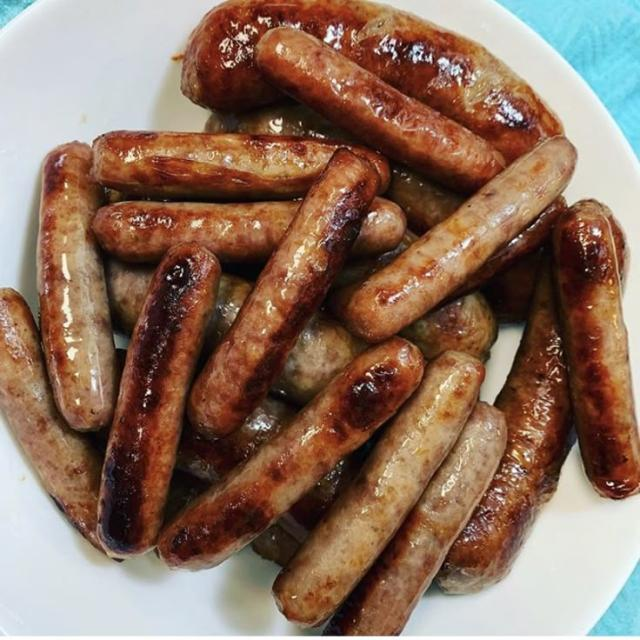sausage: (158, 338, 423, 569), (182, 0, 562, 159), (274, 352, 484, 626), (188, 149, 379, 437), (334, 137, 576, 341), (439, 256, 572, 593), (325, 403, 506, 635), (256, 27, 505, 193), (98, 244, 220, 557), (0, 289, 101, 550), (554, 200, 639, 499), (38, 142, 117, 431), (93, 132, 389, 201), (94, 201, 299, 263), (253, 450, 361, 566), (455, 196, 566, 295), (176, 397, 295, 484), (176, 397, 295, 483), (280, 441, 371, 542), (273, 312, 366, 405), (274, 312, 366, 405), (400, 293, 497, 360), (400, 292, 497, 359), (403, 294, 496, 359), (204, 102, 353, 141), (205, 103, 353, 140), (386, 166, 464, 234), (332, 229, 419, 289), (481, 250, 543, 323), (481, 251, 541, 323), (105, 259, 155, 335), (106, 260, 155, 334), (164, 470, 208, 522), (252, 523, 299, 566)
